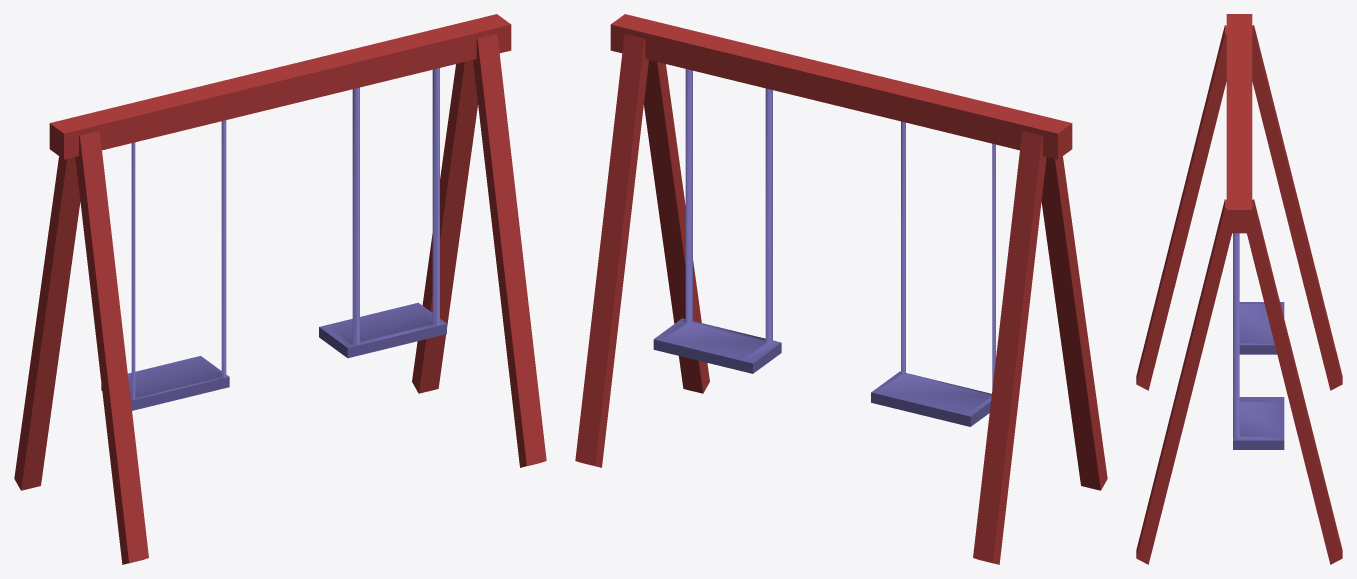
Rendered from swing2.fbx.
The picture shows the model from 3 angles, left to right: view 1: azimuth 30°, elevation 25°; view 2: azimuth 150°, elevation 25°; view 3: azimuth 270°, elevation 25°; orthographic projection. The views are drawn at different scales.
Visible parts, largest first — view 1: Plane003; view 2: Plane003; view 3: Plane003.
Boxes of the visible parts, box(x1,y1,x2,y2) form: Plane003: box(14, 14, 546, 564); Plane003: box(575, 14, 1107, 564); Plane003: box(1136, 14, 1342, 564).
Size of the model in its own units: 90 by 77.49 by 40.02.
